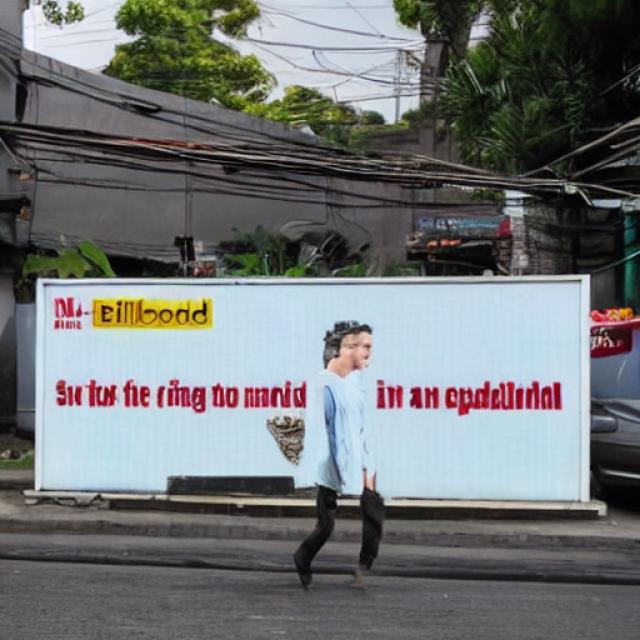Billboard: (31, 274, 595, 512)
